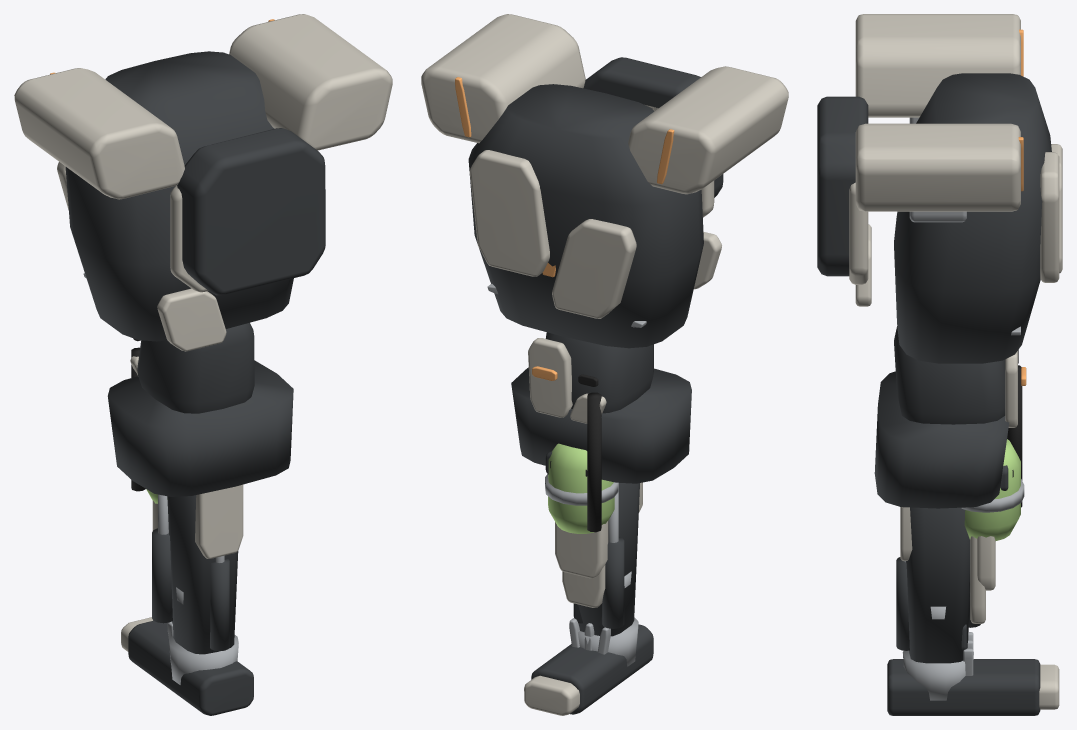
Rendered from Horde.fbx.
3 views of the same model, side by side, from view 1: azimuth 30°, elevation 25°; view 2: azimuth 150°, elevation 25°; view 3: azimuth 270°, elevation 25° (orthographic). The views are drawn at different scales.
Parts seen in each view (by area): view 1: CrusherShards_Mount, Torso_Mount, Thigh_Mount, Head_Mount, Shin_Mount, UpperArm_Mount; view 2: Torso_Mount, CrusherShards_Mount, Head_Mount, Thigh_Mount, Shin_Mount, SpitterSac_Mount, Forearm_Mount; view 3: Torso_Mount, CrusherShards_Mount, Thigh_Mount, Shin_Mount, Head_Mount, SpitterSac_Mount, UpperArm_Mount, Forearm_Mount.
Part boxes in pixels (x1,y1,x2,y2): CrusherShards_Mount: [14, 14, 392, 295]; Torso_Mount: [57, 51, 293, 496]; Thigh_Mount: [152, 494, 238, 684]; Head_Mount: [130, 322, 254, 413]; Shin_Mount: [121, 555, 253, 715]; UpperArm_Mount: [176, 484, 243, 604]; Torso_Mount: [468, 84, 721, 532]; CrusherShards_Mount: [421, 14, 788, 197]; Head_Mount: [528, 332, 653, 423]; Thigh_Mount: [555, 482, 639, 666]; Shin_Mount: [524, 565, 653, 715]; SpitterSac_Mount: [545, 443, 618, 533]; Forearm_Mount: [569, 603, 610, 654]; Torso_Mount: [849, 73, 1062, 508]; CrusherShards_Mount: [817, 14, 1023, 276]; Thigh_Mount: [902, 507, 995, 700]; Shin_Mount: [887, 536, 1059, 715]; Head_Mount: [894, 326, 1026, 427]; SpitterSac_Mount: [961, 439, 1024, 540]; UpperArm_Mount: [900, 507, 970, 619]; Forearm_Mount: [961, 624, 973, 675].
Bounding box in the file's own units: 0.5527 × 1.09 × 0.385.
